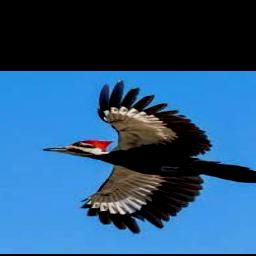Woodpecker: (42, 79, 256, 234)
